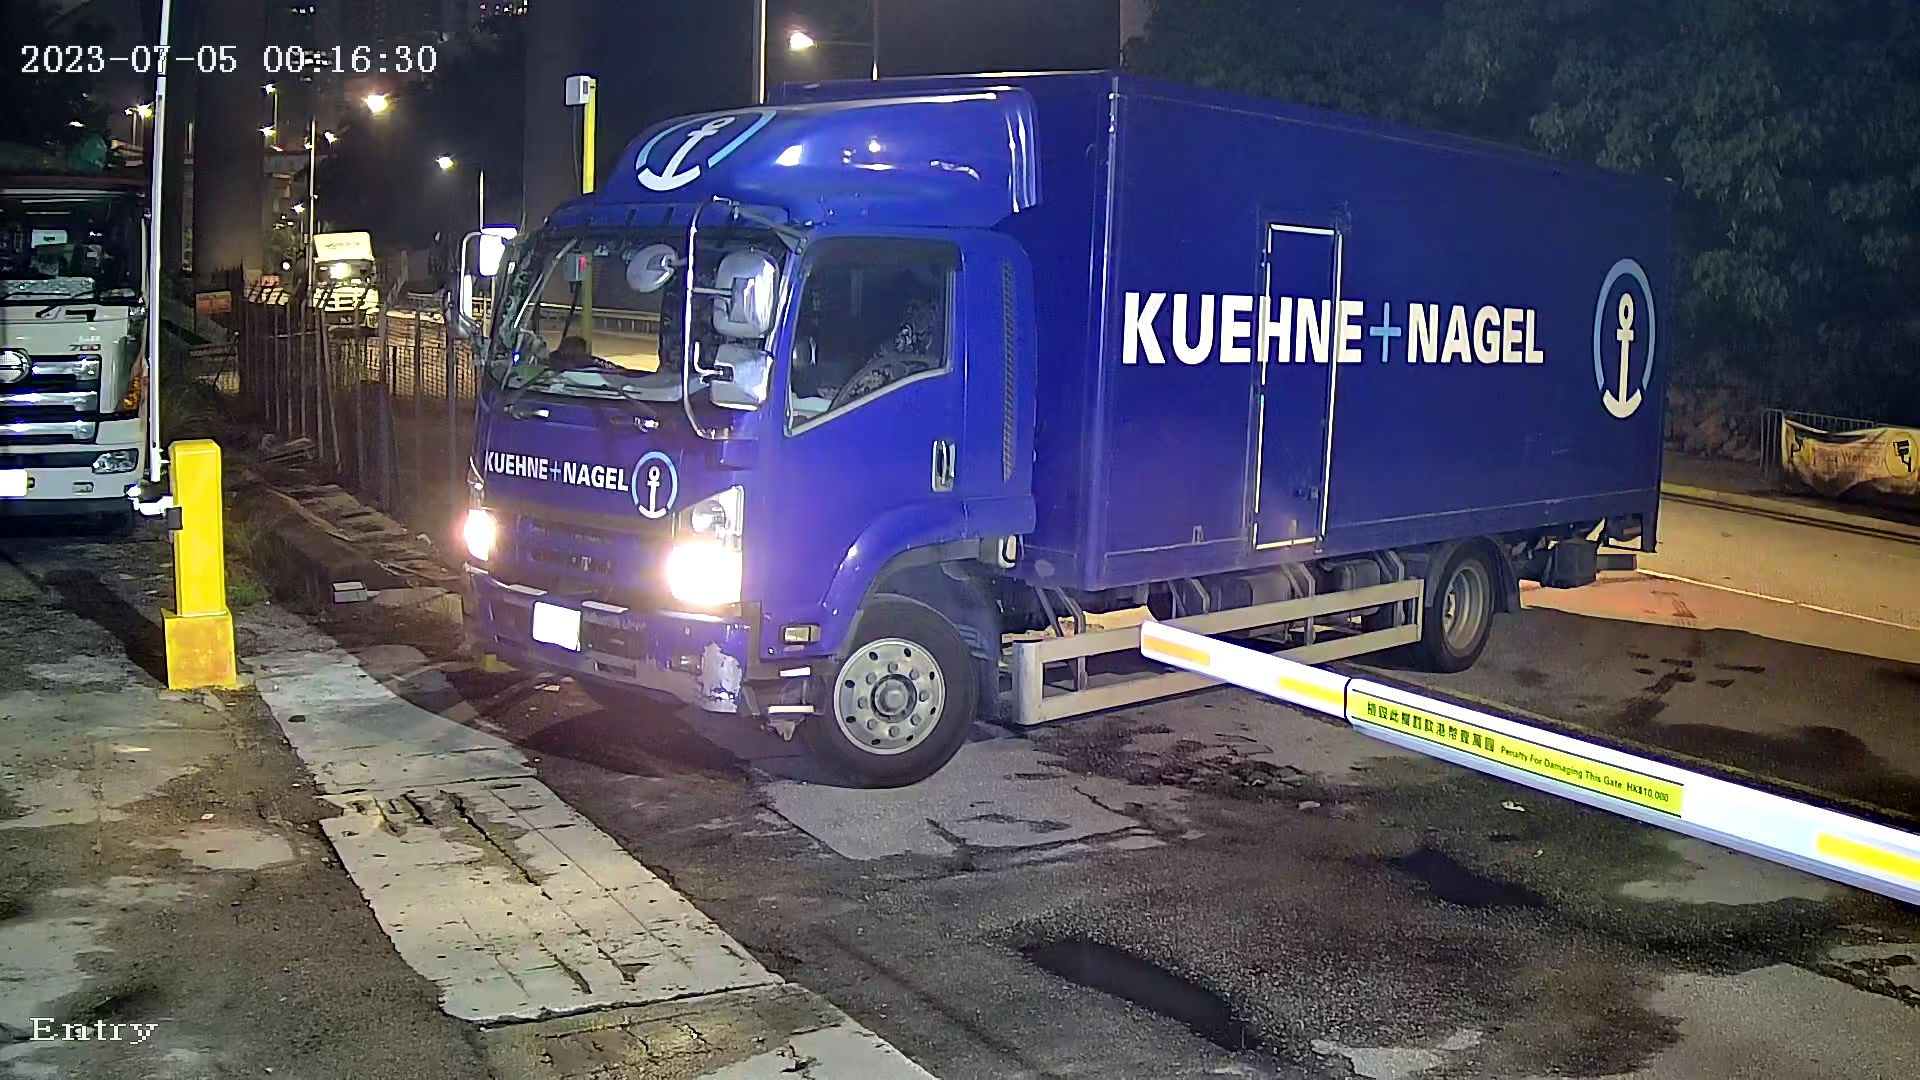truck: (434, 50, 1693, 783)
